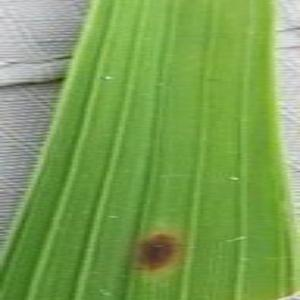Brown_Spot: (129, 222, 191, 290)
